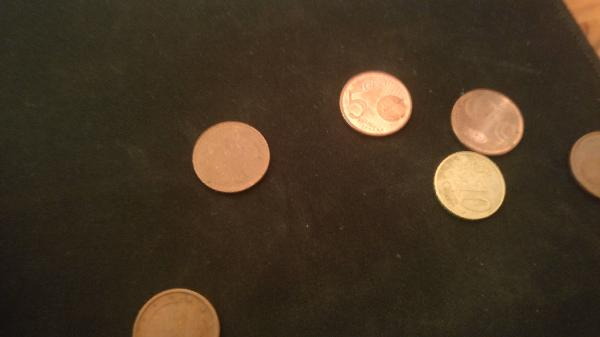Five Cent: (191, 121, 266, 200), (451, 88, 530, 151), (130, 287, 227, 337), (341, 71, 413, 138), (567, 127, 600, 189)
Ten Cent: (431, 149, 511, 219)
